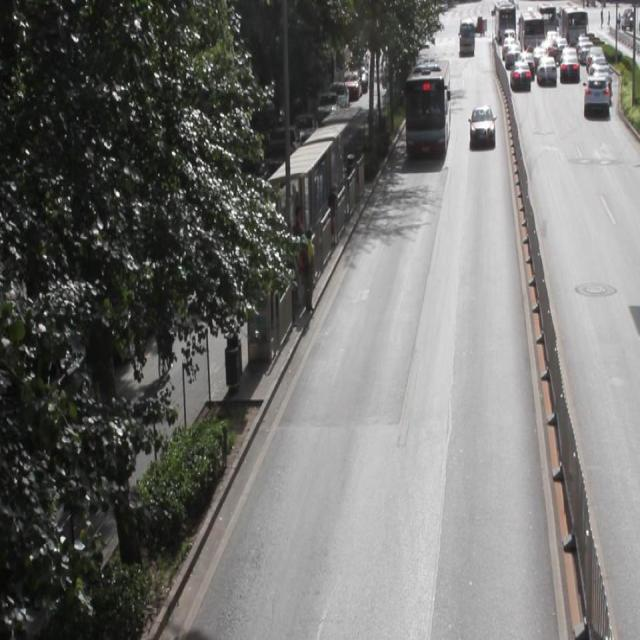car: (468, 105, 494, 147)
van: (404, 57, 448, 156)
